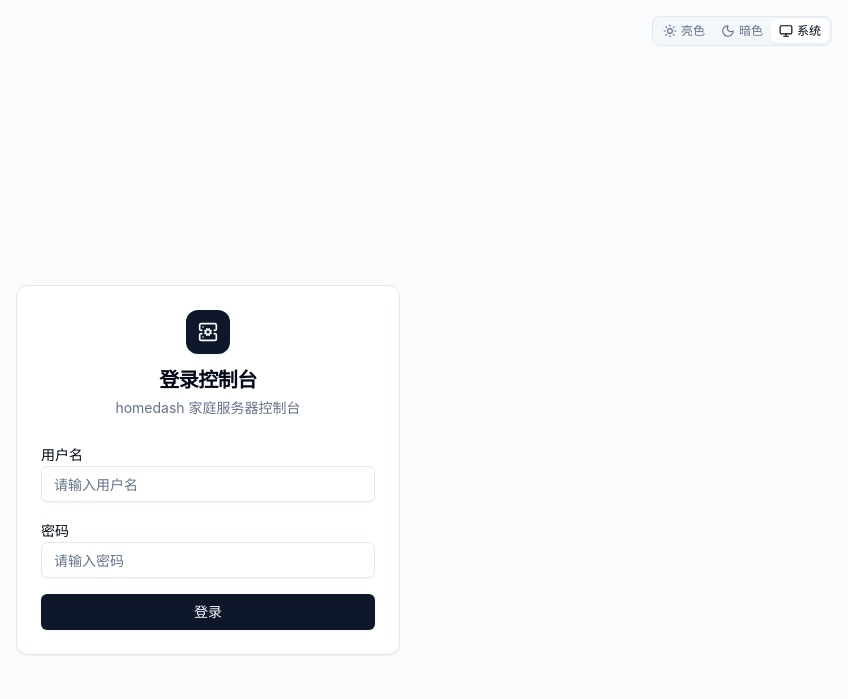
Test case: homedash 前端认证与控制台 › 登录返回 429 时显示后端返回的中文限流提示
Expected: the button "登录" is shown, x1=41 y1=594 x2=375 y2=630
In the field labelled "用户名": (208, 484) x1=41 y1=466 x2=375 y2=502, type "admin"
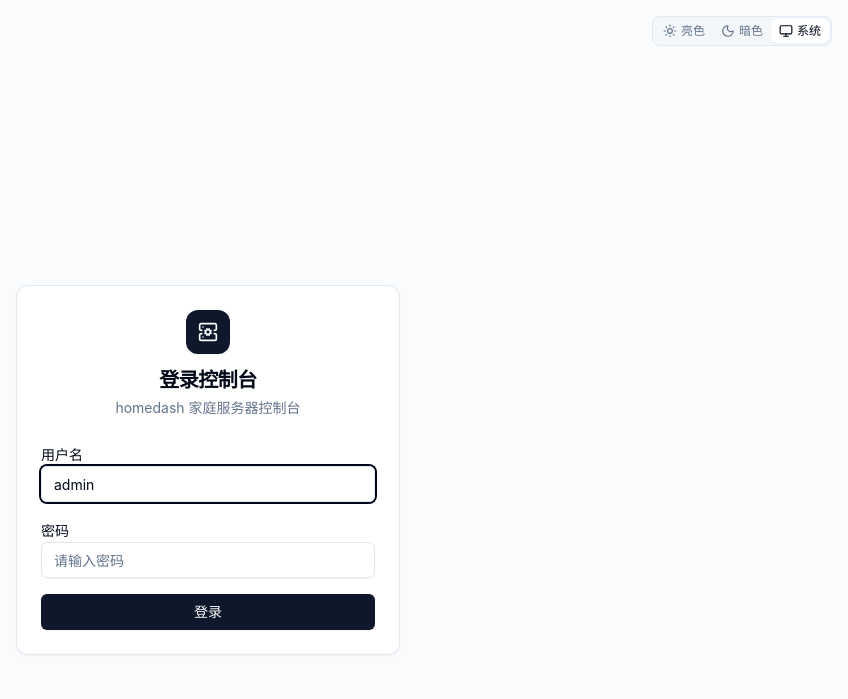
In the password field labelled "密码": (208, 560) x1=41 y1=542 x2=375 y2=578, type "wrong-pass"
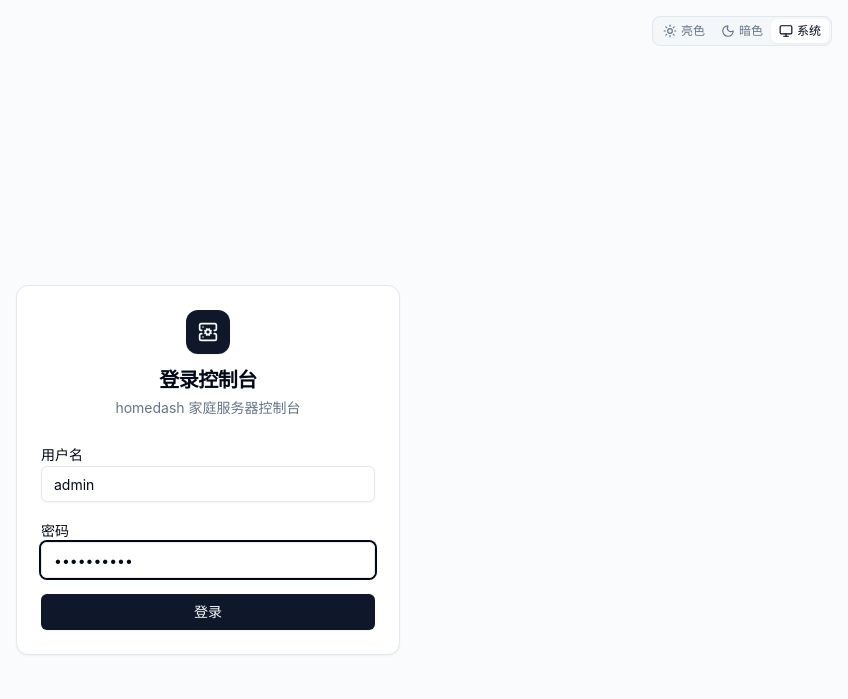
Click the button "登录": (208, 612) x1=41 y1=594 x2=375 y2=630
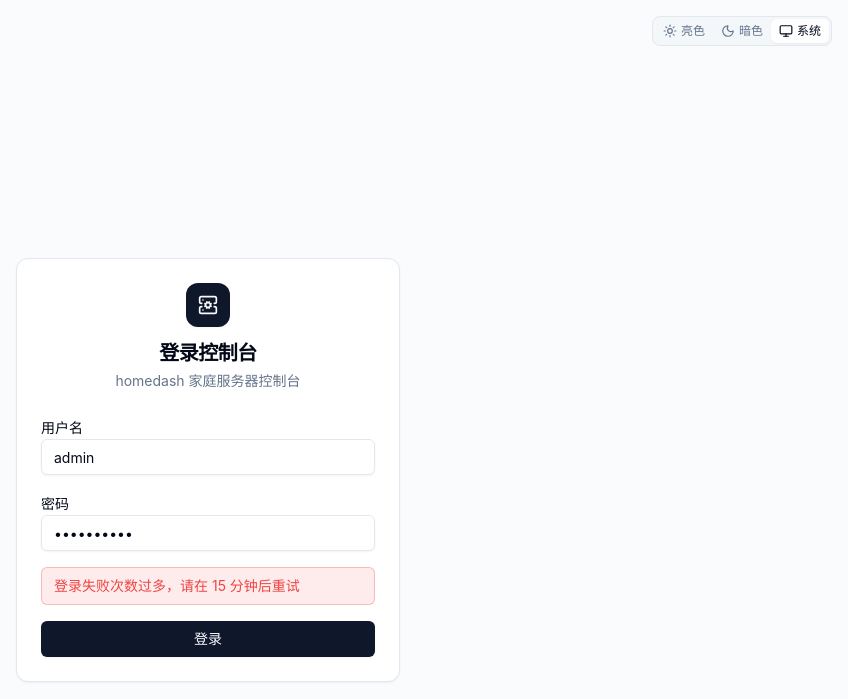
Expected: the message reads "登录失败次数过多，请在 15 分钟后重试", x1=54 y1=577 x2=300 y2=594
